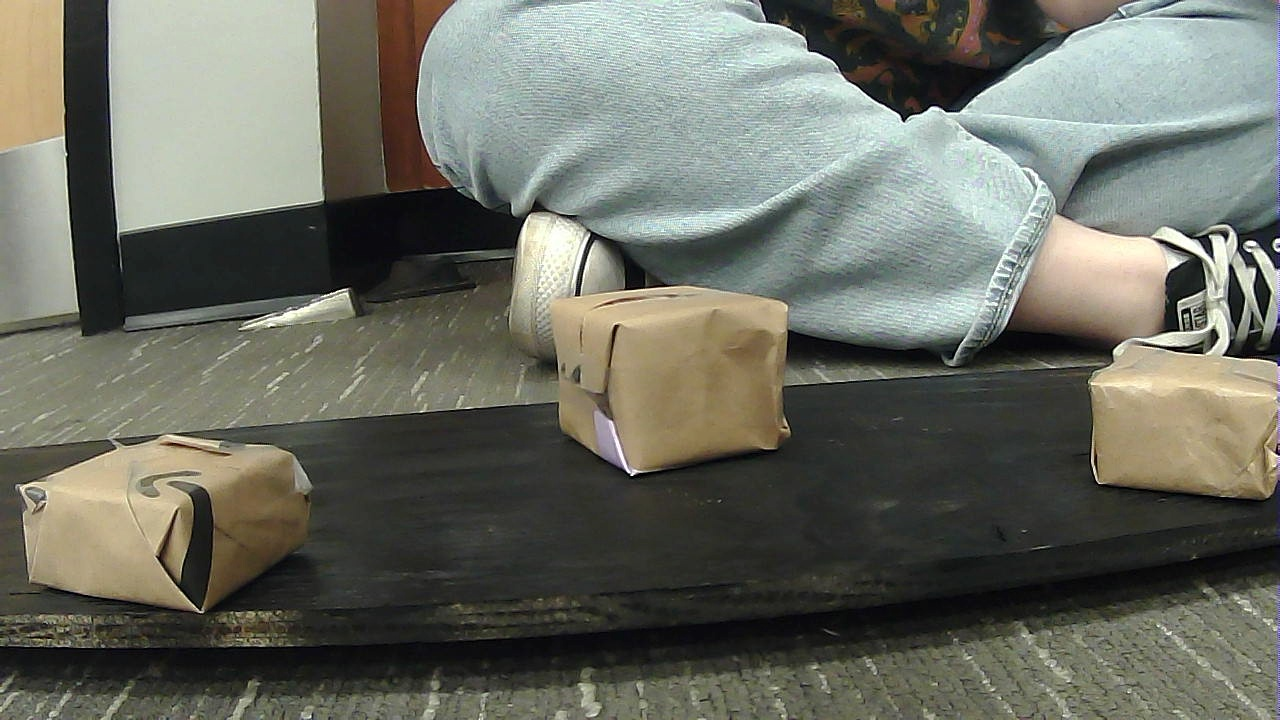package: (10, 434, 348, 641), (531, 284, 817, 477), (1070, 312, 1277, 510)
